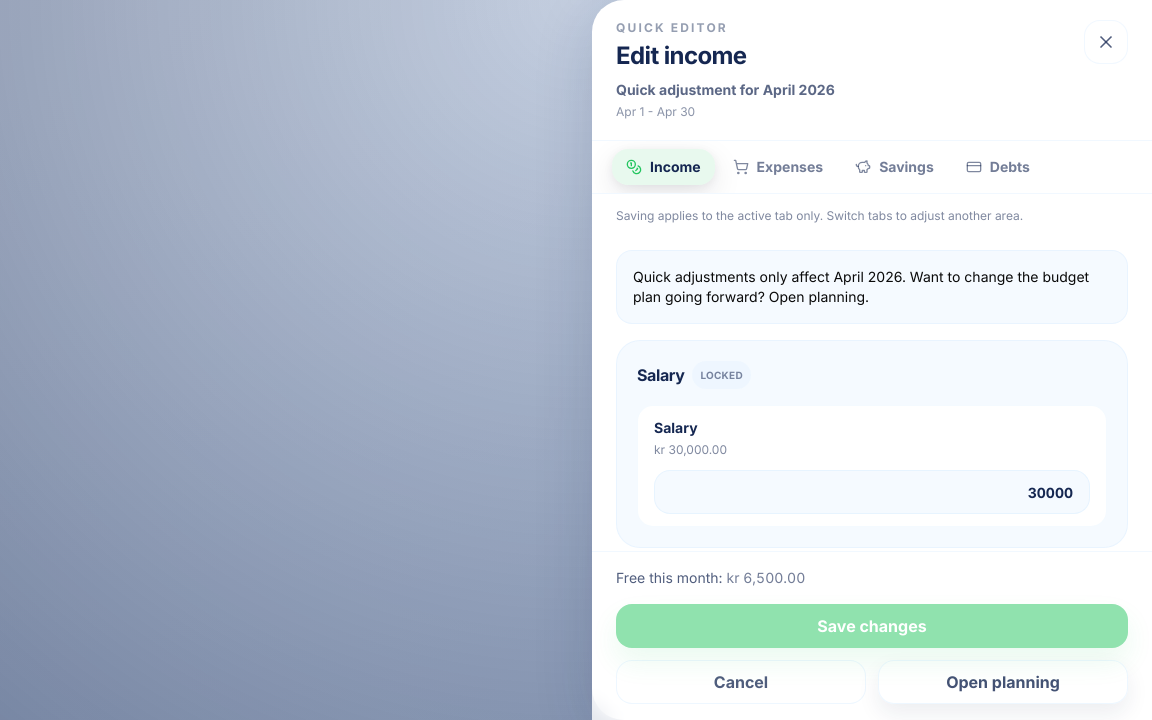
Test: EditPeriodDrawer footer projection (PR B) › projects a positive delta when an active income row increases
Replace the text in the field named "Salary" with "30500": (872, 492) 654,470 -> 1090,514
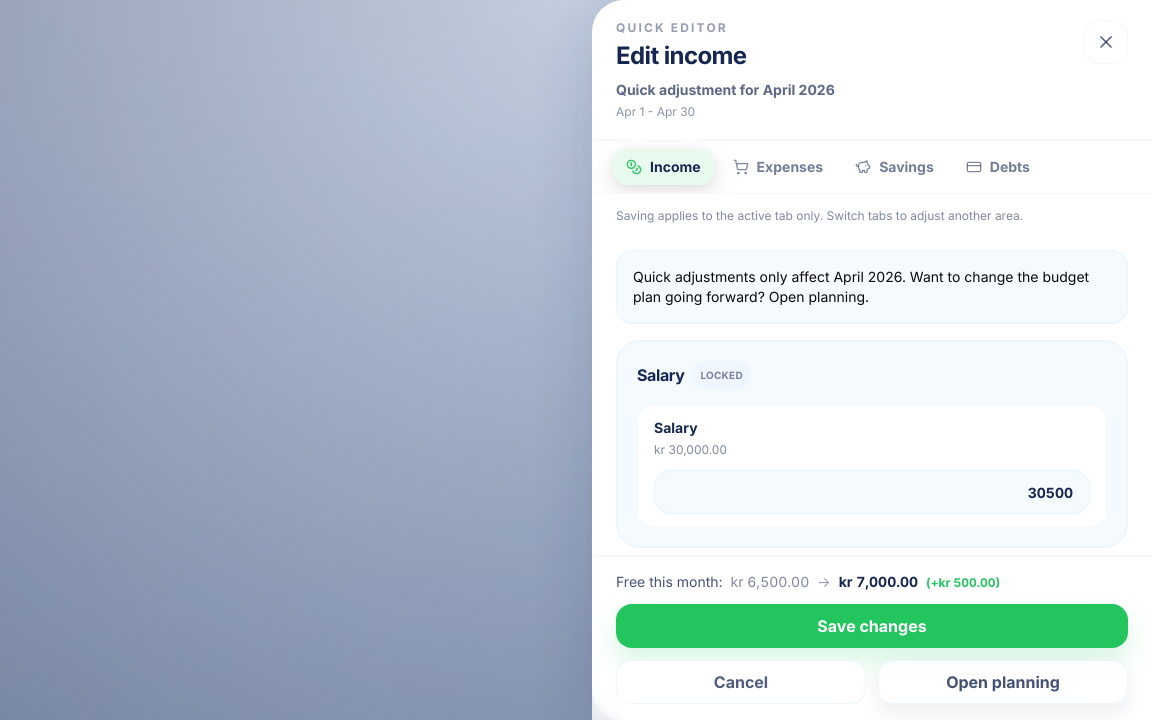
Expected: the text with test id "quick-edit-projection-delta" shows "+", 931,575 -> 938,590
Expected: the text with test id "quick-edit-projection-delta" shows "500", 938,575 -> 996,590
